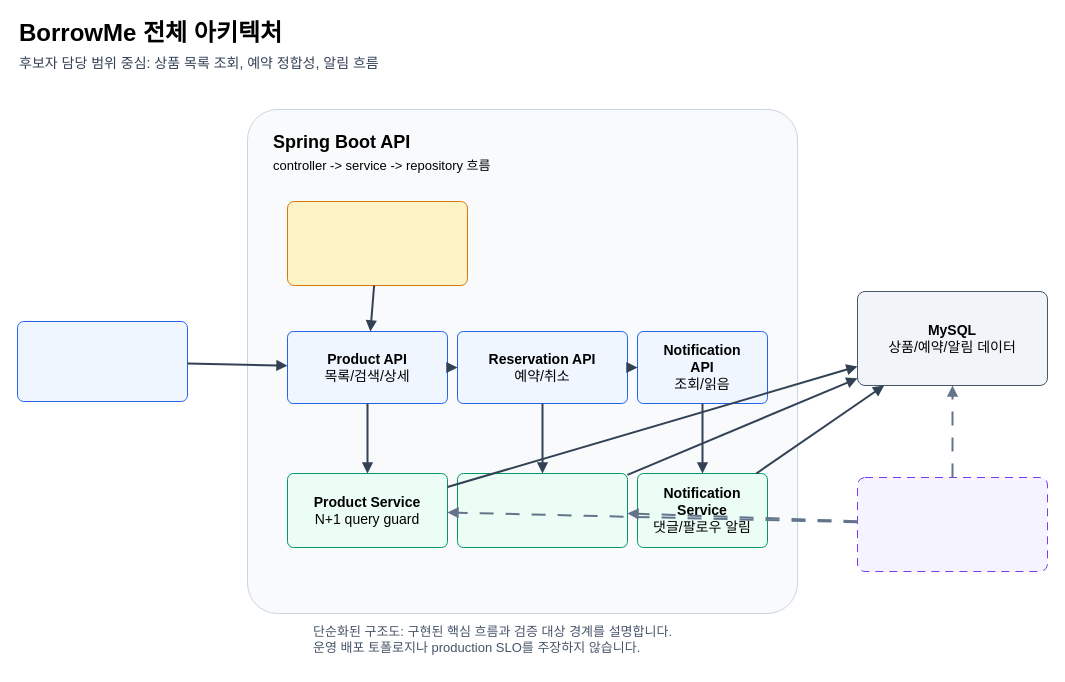
The diagram is 1065 pixels wide and 682 high, and some of its shapes have lost their labels. The box of each missing label's shape, as (x1, y1, x2, y2) in pixels:
Auth / Security JWT, Spring Security: (286, 200, 468, 286)
Client REST 요청/응답: (16, 320, 188, 402)
Reservation Service Pessimistic Lock: (456, 472, 628, 548)
Testcontainers MySQL query/concurrency 검증: (856, 476, 1048, 572)
